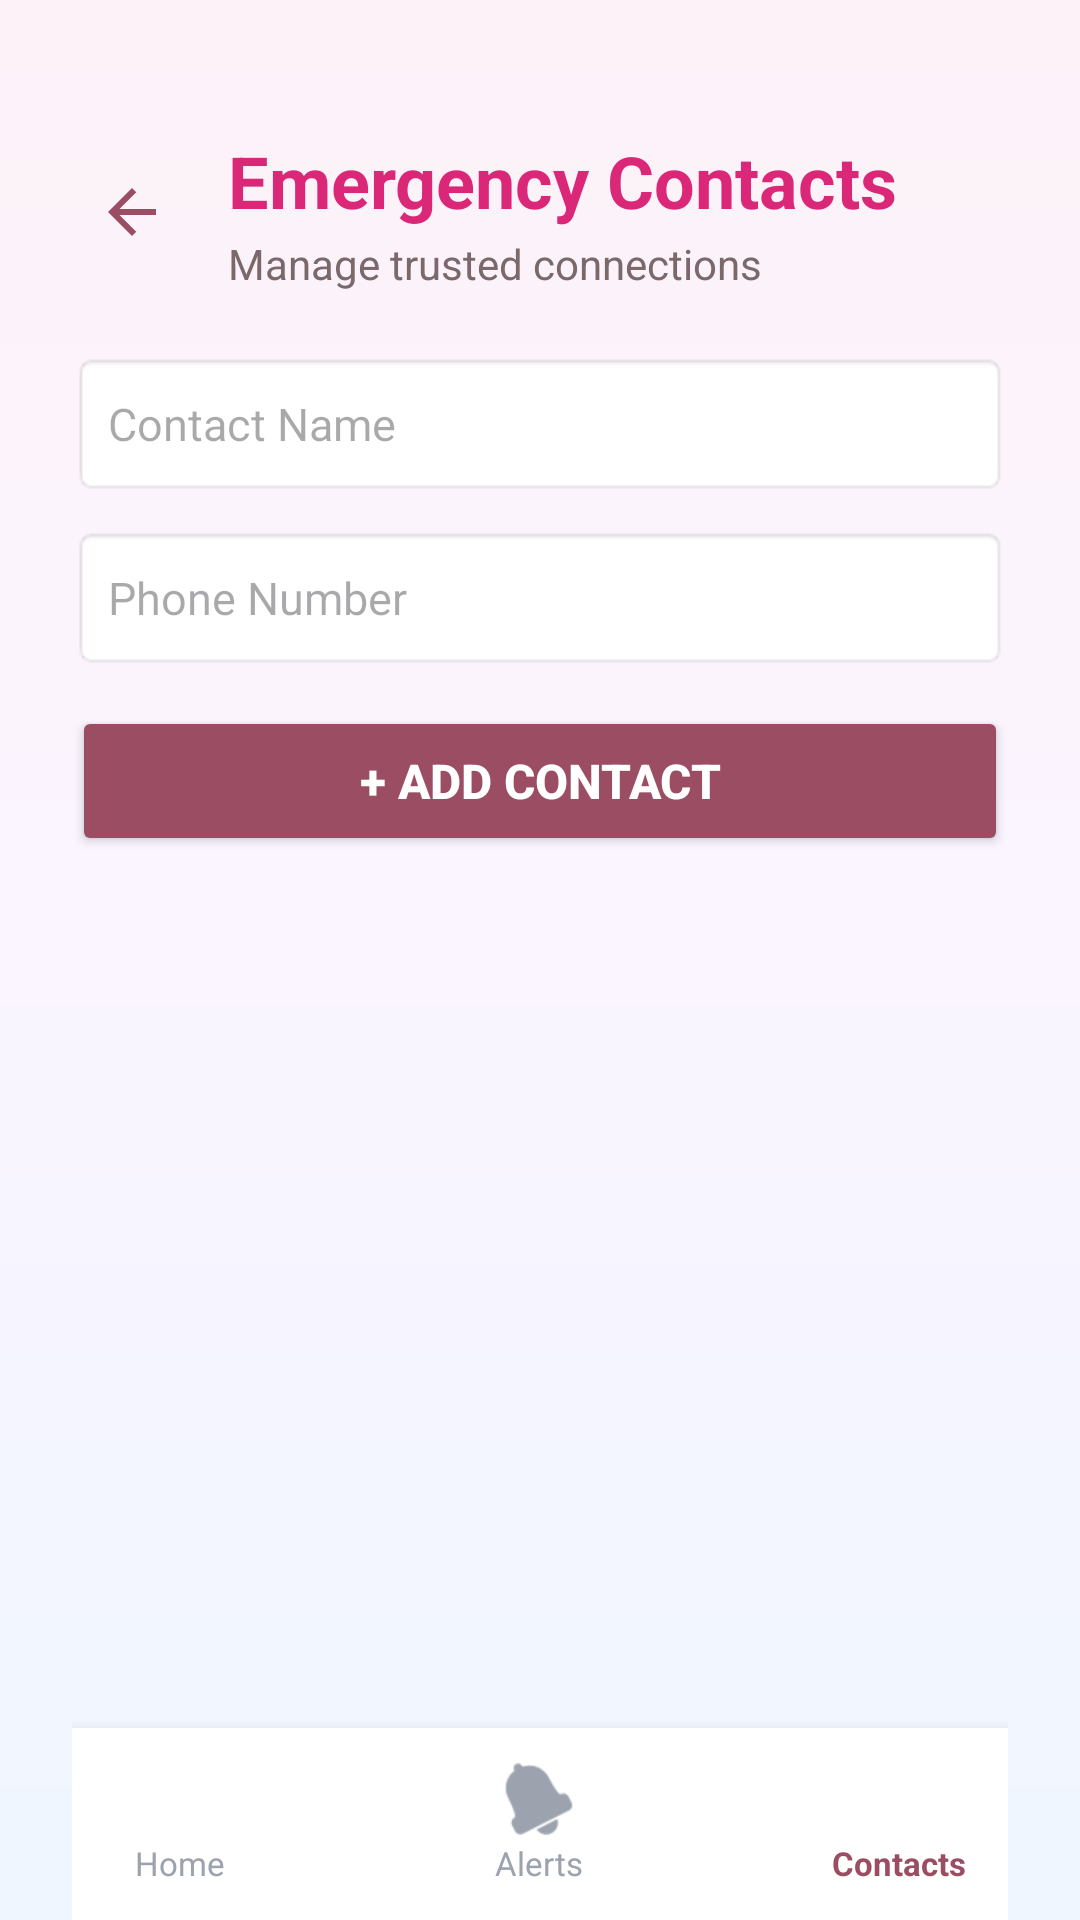

Screen size 1080 x 1920. Icon name, then its center in pixels as (x=x, y=y):
arrow back: (x=132, y=212)
popup reminder: (x=539, y=1799)
